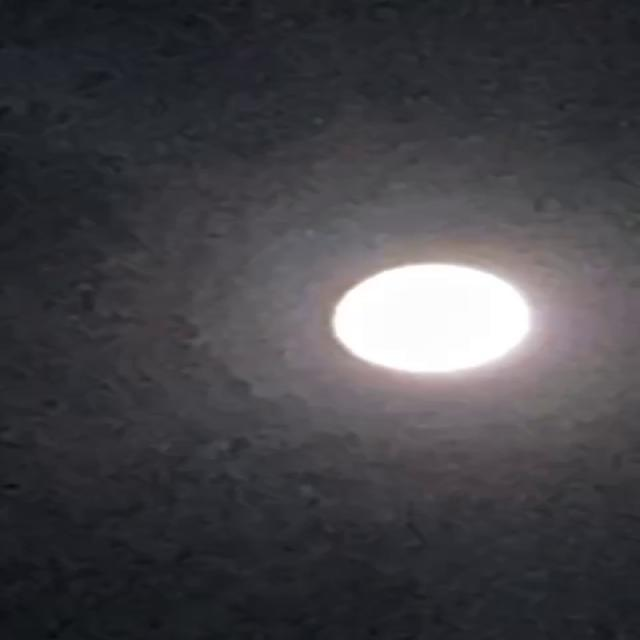moon: (323, 260, 549, 381)
